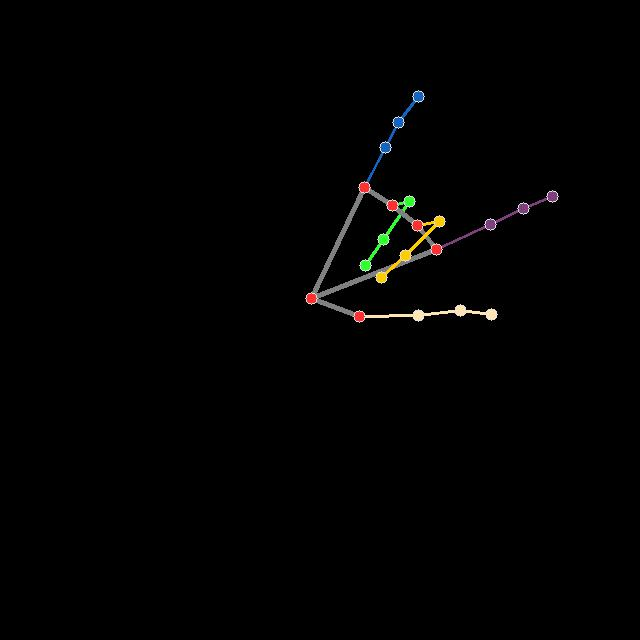spiderman: (304, 90, 559, 321)
